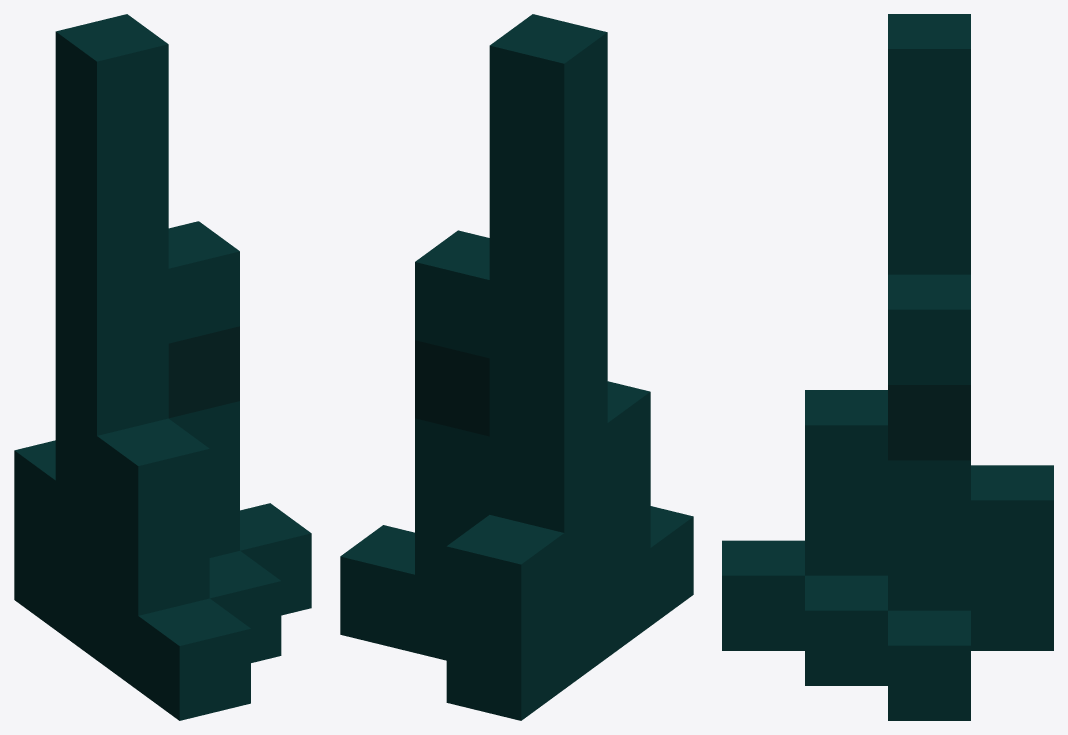
The model's file is rock2.obj.
3 views of the same model, side by side, from view 1: azimuth 30°, elevation 25°; view 2: azimuth 150°, elevation 25°; view 3: azimuth 270°, elevation 25° (orthographic). The views are drawn at different scales.
Size of the model in its own units: 0.3 by 0.8 by 0.4.
Materials: 1 (1 with a texture image).
